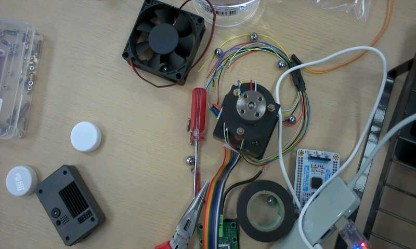ironball: (266, 196, 276, 205), (214, 47, 222, 56), (249, 32, 257, 41), (277, 60, 285, 69), (185, 156, 193, 164), (287, 115, 295, 123), (160, 65, 167, 72)
